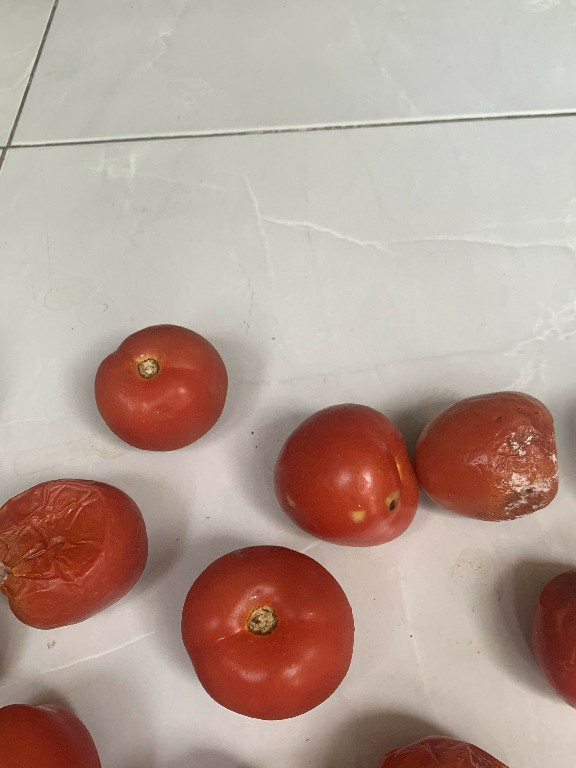NG: (0, 470, 154, 628), (268, 397, 410, 552), (410, 389, 562, 527)
OK: (169, 541, 362, 723), (88, 316, 230, 452)
